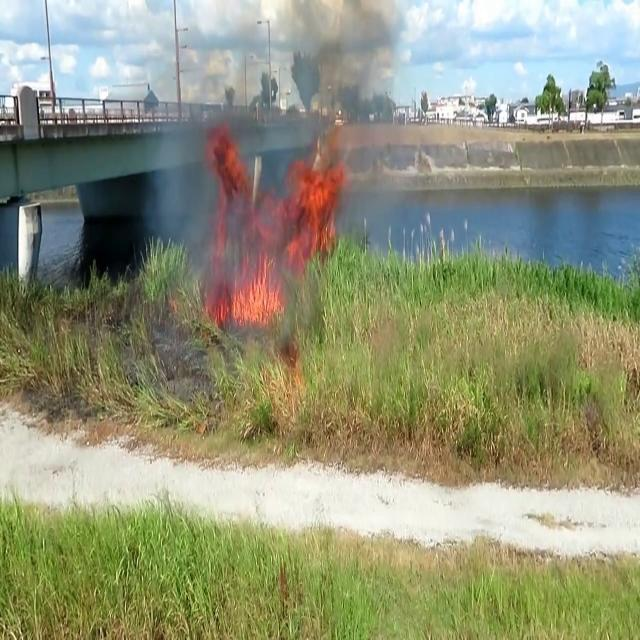Fire: (201, 106, 367, 276), (225, 243, 284, 336)
Smoke: (142, 1, 415, 327)
